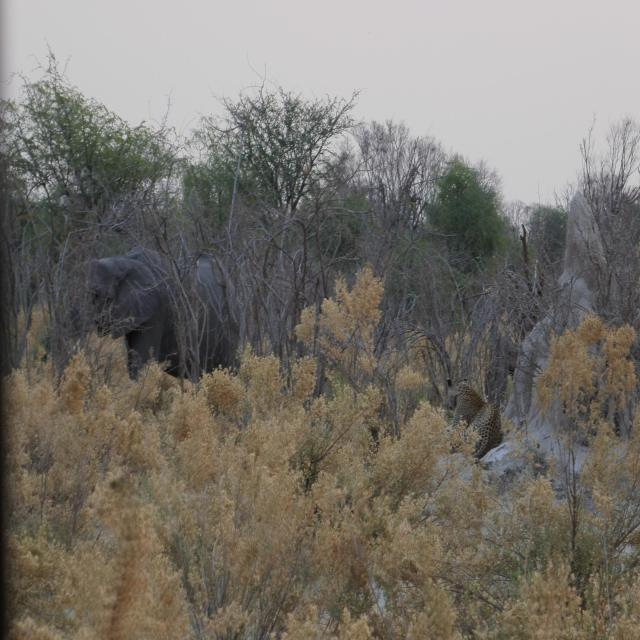Leopard: (439, 372, 512, 468)
